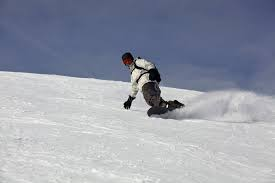snowboarder: (109, 48, 194, 123)
